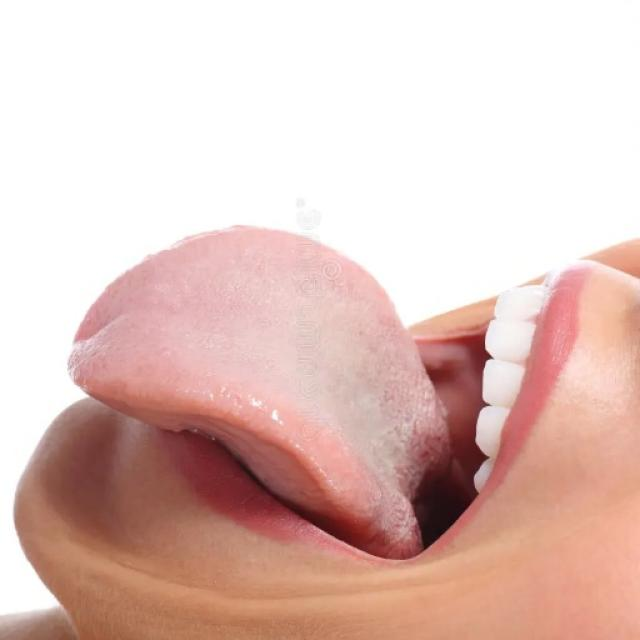processing_area: (70, 220, 481, 559)
